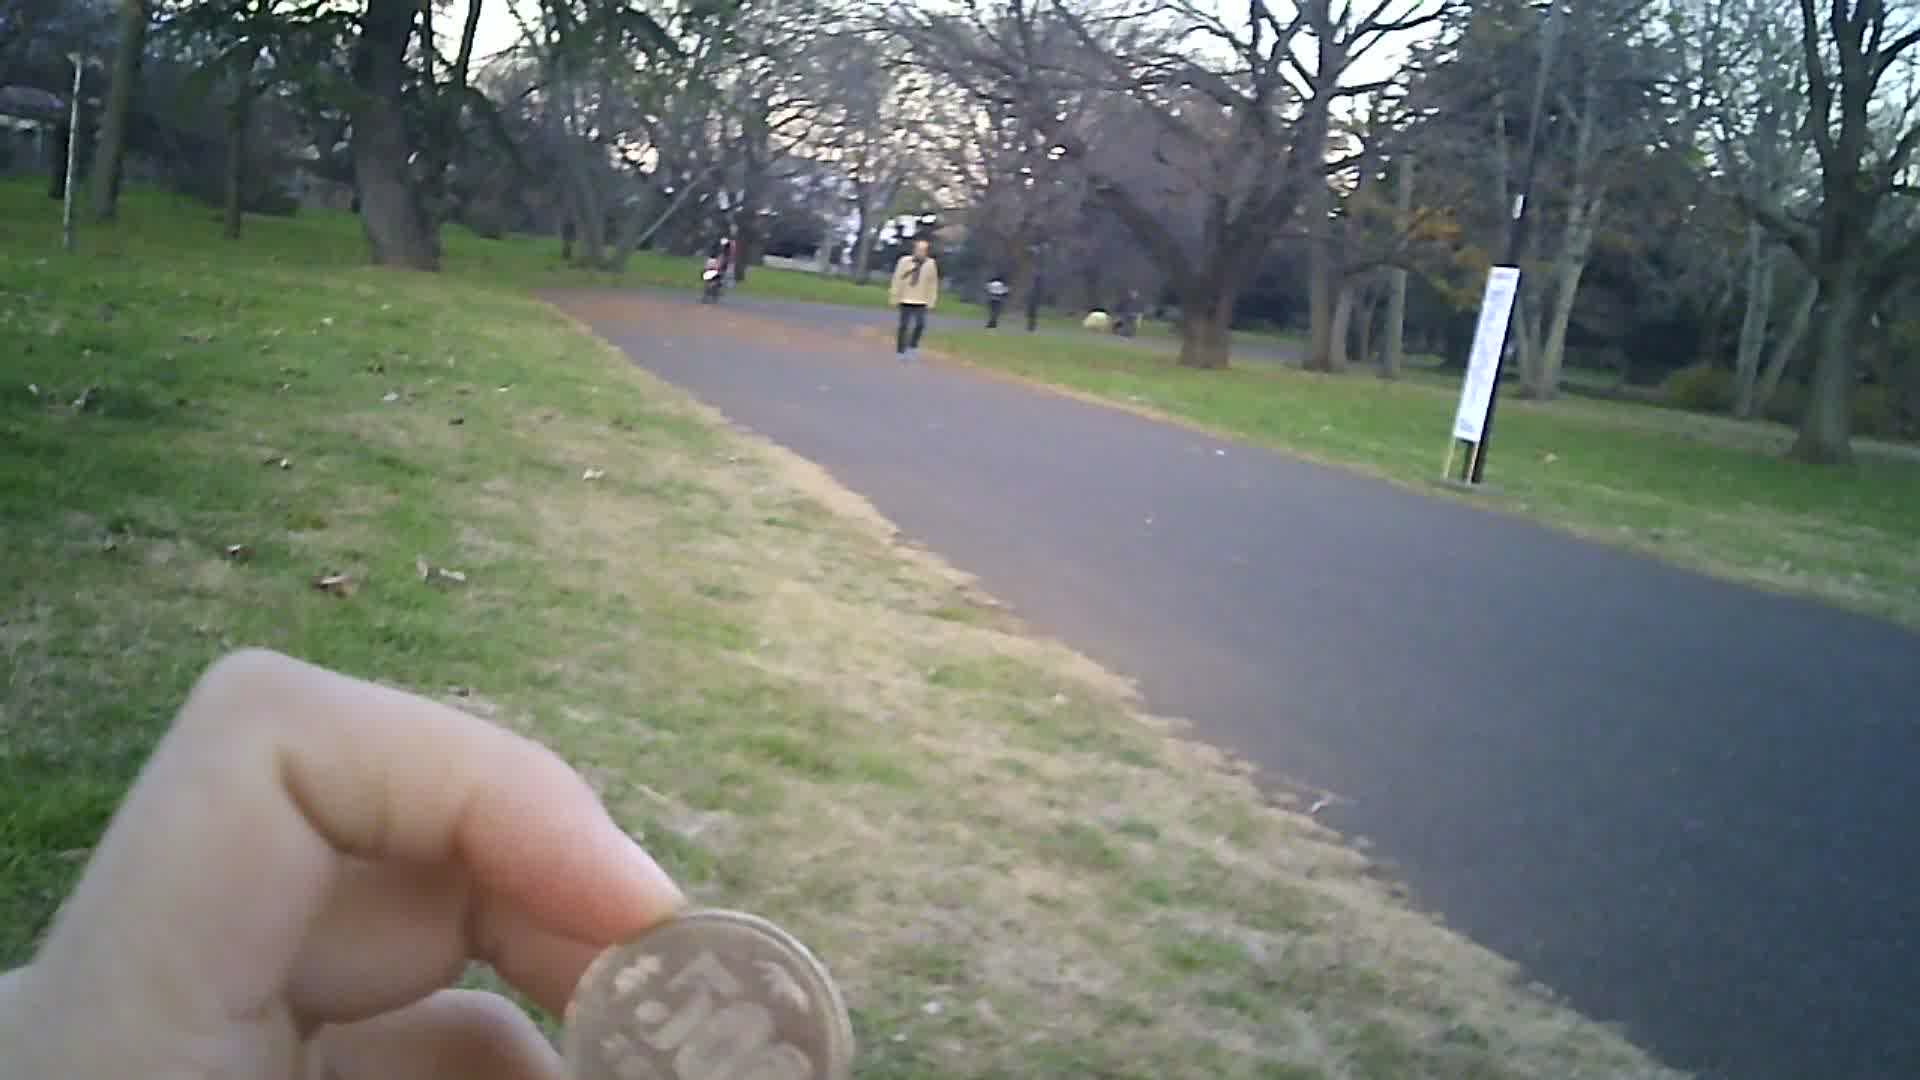500 Yen: (547, 895, 866, 1077)
